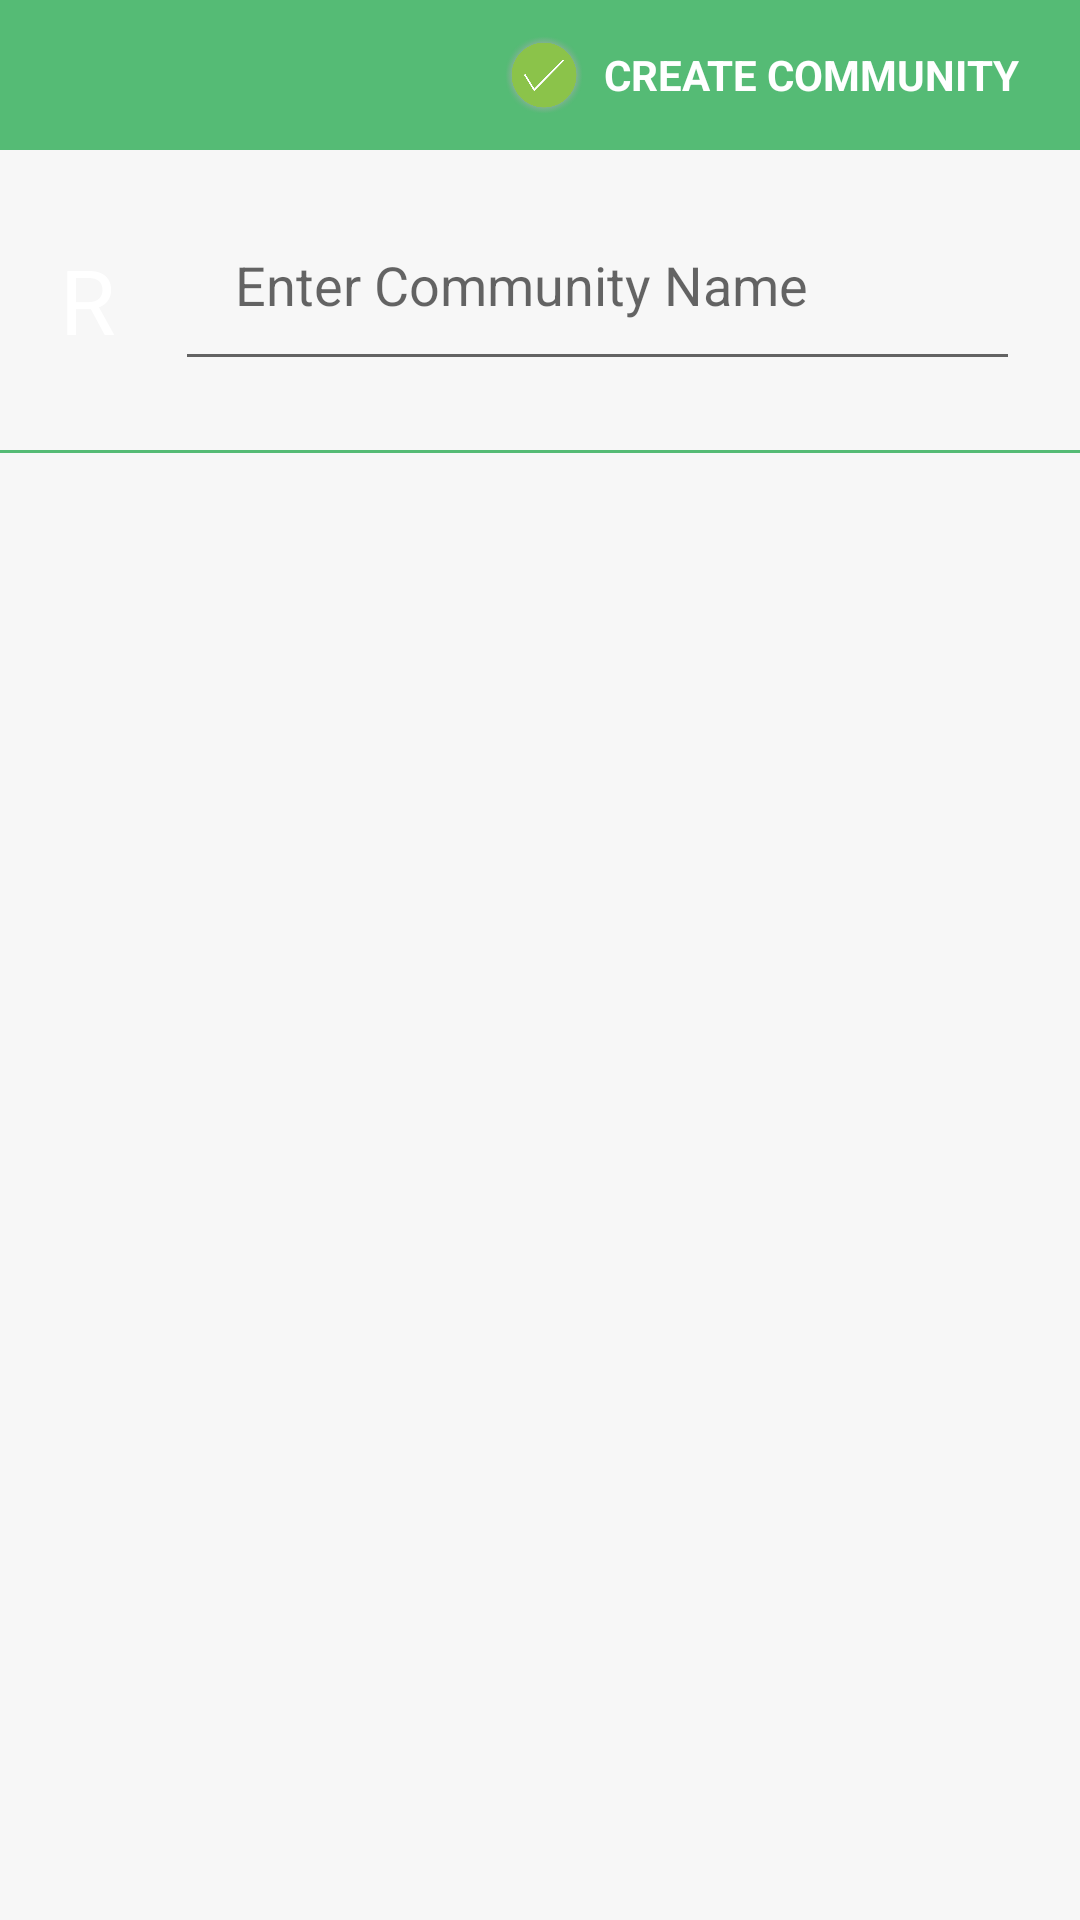

Named icons in this screenshot (1080x1920) and their bounding boxes, (x1, y1, x2, y2):
accept cr group: (509, 40, 579, 110)
